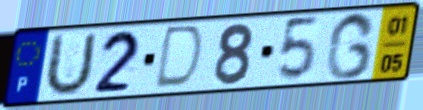2: (88, 27, 145, 98)
5: (274, 13, 325, 85)
8: (212, 21, 258, 87)
D: (151, 23, 207, 91)
G: (322, 10, 378, 82)
U: (40, 29, 100, 99)
